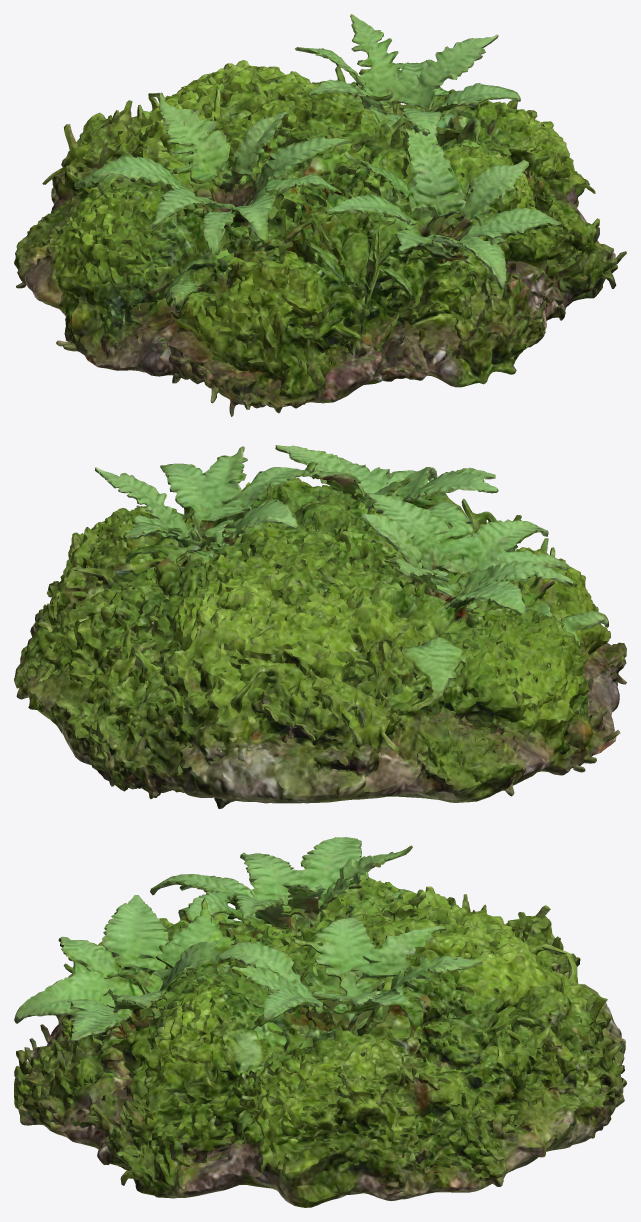
The model's file is moss-patch.glb.
3 renders of one model, top to bottom at view 1: azimuth 30°, elevation 25°; view 2: azimuth 150°, elevation 25°; view 3: azimuth 270°, elevation 25°, orthographic. The views are drawn at different scales.
Visible parts, largest first — view 1: geometry_0; view 2: geometry_0; view 3: geometry_0.
Part boxes in pixels (left/top/right/bottom): geometry_0: left=14, top=14, right=626, bottom=416; geometry_0: left=14, top=445, right=626, bottom=808; geometry_0: left=14, top=837, right=626, bottom=1207.
Size of the model in its own units: 0.35 by 0.1348 by 0.3481.
Materials: 1 (1 with a texture image).
